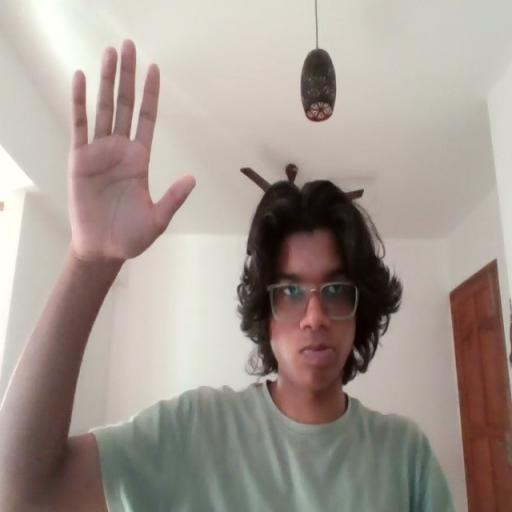Paper: (67, 34, 197, 267)
